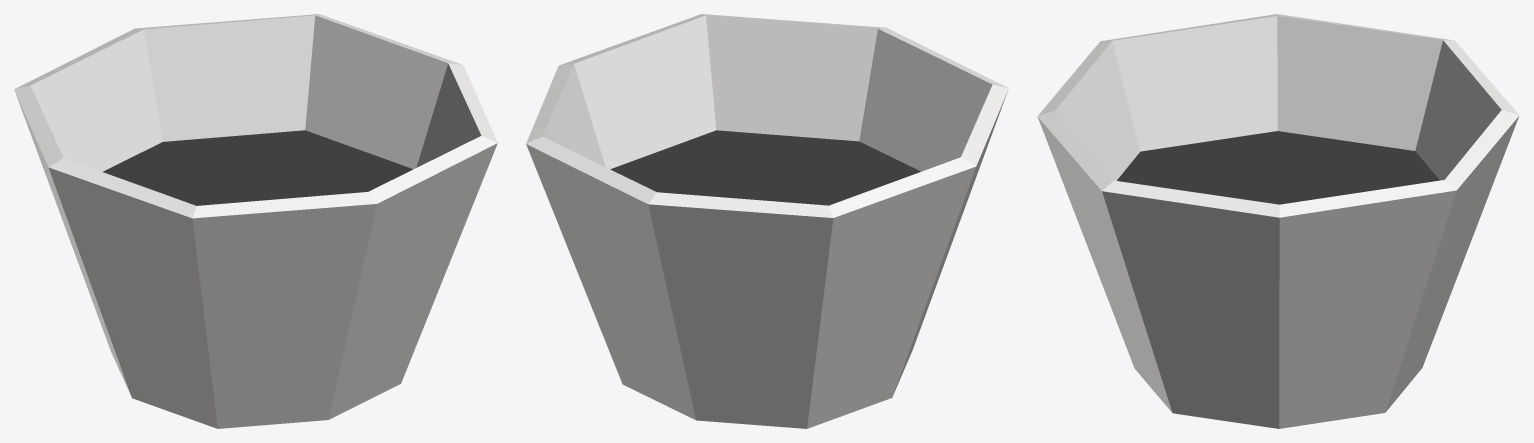
File: Cup_5.fbx
3 renders of one model, left to right at view 1: azimuth 30°, elevation 25°; view 2: azimuth 150°, elevation 25°; view 3: azimuth 270°, elevation 25°, orthographic.
Parts seen in each view (by area): view 1: Cup_5; view 2: Cup_5; view 3: Cup_5.
Boxes of the visible parts, box(x1,y1,x2,y2) form: Cup_5: box(14, 14, 497, 428); Cup_5: box(526, 14, 1008, 428); Cup_5: box(1037, 14, 1519, 428).
Bounding box in the file's own units: 17.66 × 17.67 × 10.42.
